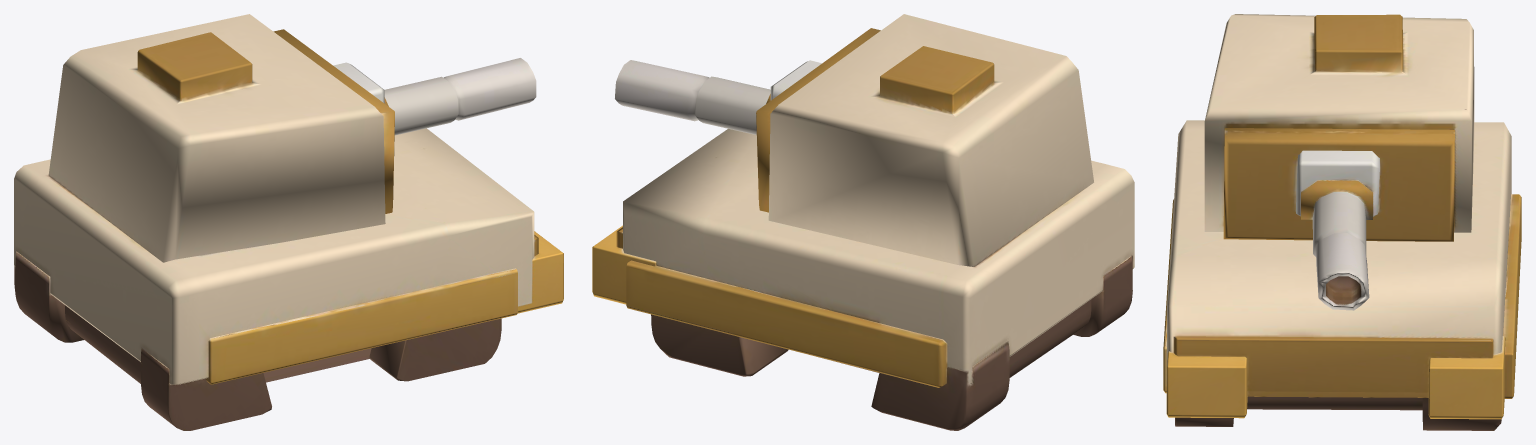
File: Tank1.fbx
3 renders of one model, left to right at view 1: azimuth 30°, elevation 25°; view 2: azimuth 150°, elevation 25°; view 3: azimuth 270°, elevation 25°, orthographic. The views are drawn at different scales.
Parts seen in each view (by area): view 1: tripo_node_e2bcb839; view 2: tripo_node_e2bcb839; view 3: tripo_node_e2bcb839.
Boxes of the visible parts, x1,y1,x2,y2 form: tripo_node_e2bcb839: (14, 14, 563, 430); tripo_node_e2bcb839: (592, 14, 1134, 430); tripo_node_e2bcb839: (1163, 14, 1521, 430).
Size of the model in its own units: 180 by 116 by 127.
